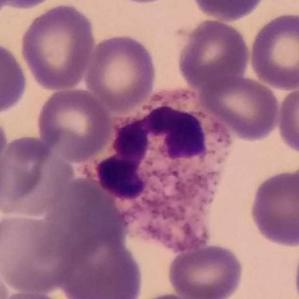Neutrophil: (93, 88, 240, 256)
RBC: (40, 176, 127, 264), (18, 1, 97, 92), (54, 223, 146, 299), (2, 212, 78, 296), (83, 32, 159, 112), (35, 86, 114, 162), (197, 74, 281, 142), (175, 17, 252, 90), (0, 134, 65, 217), (166, 242, 246, 299), (246, 166, 299, 248), (246, 9, 299, 90), (0, 39, 29, 116), (275, 82, 299, 157), (188, 0, 268, 22), (0, 111, 9, 182), (129, 291, 207, 299), (0, 0, 61, 10), (0, 258, 12, 298)
